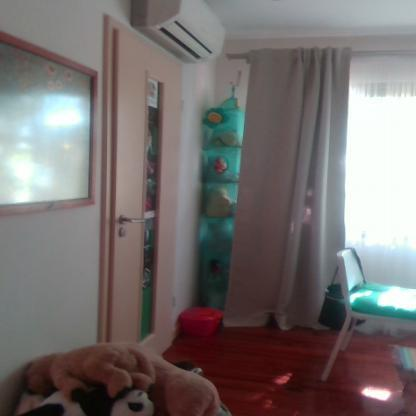door: (115, 30, 180, 356)
hinged: (181, 100, 185, 113), (172, 296, 176, 308)
lever: (124, 216, 148, 224)
